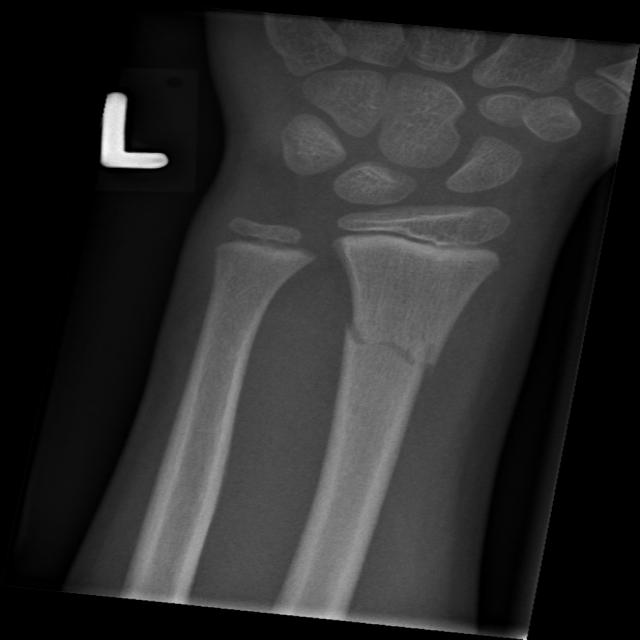radius fracture: (333, 270, 464, 442)
